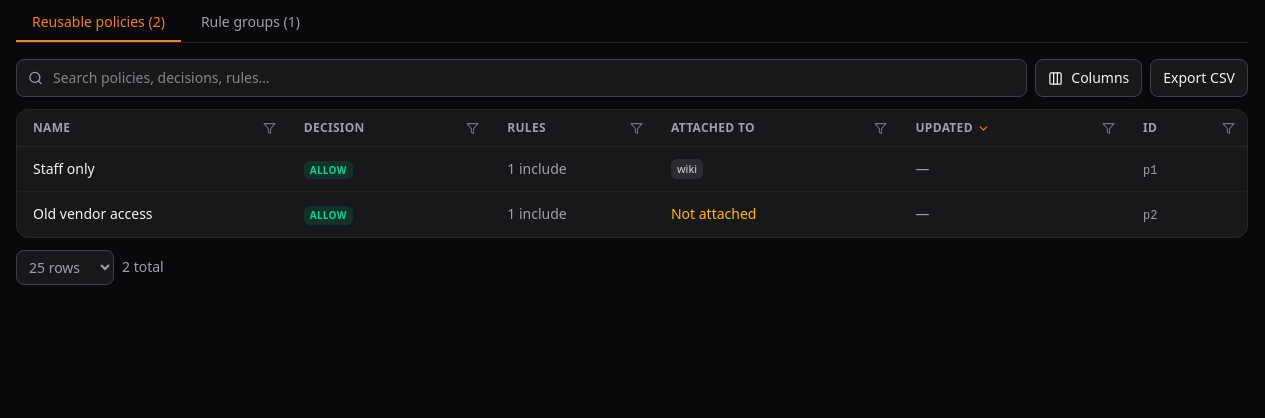
it: GroupsPage tabs › expands a row to show its rules
Expected: the text "Raw JSON" is not shown
What coordinates should you click on to do the following:
click the text "Staff only"
I would click on:
 (64, 168)
Its box is [33, 159, 95, 178].
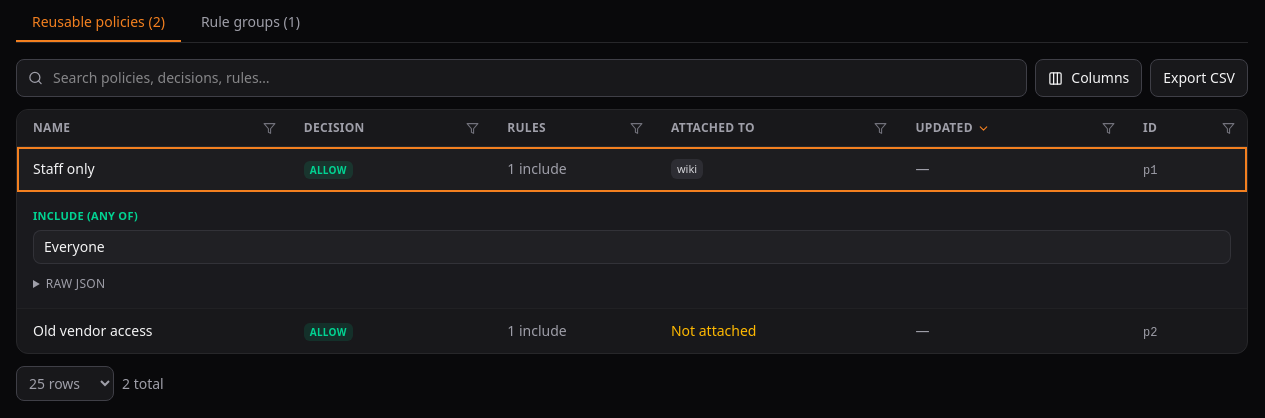
Now the heading "Raw JSON" is shown, box [46, 275, 105, 292]
